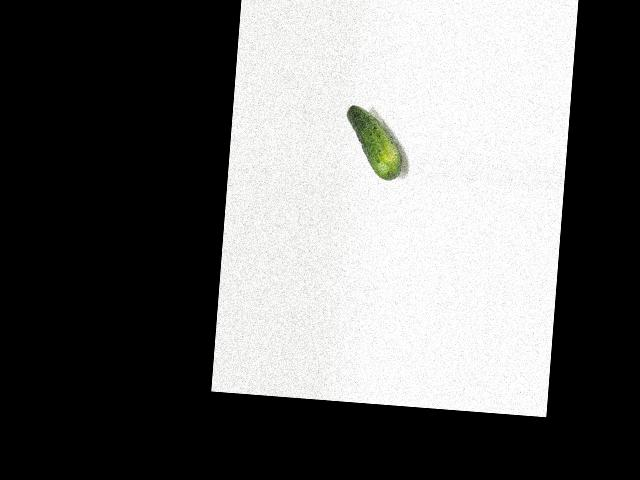cucumber: (342, 104, 405, 180)
